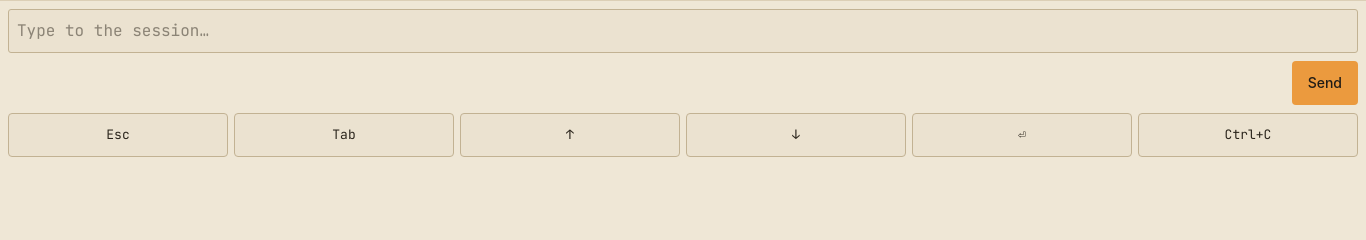
Scenario: TerminalKeys — the offline queue (WP-13) › holds a message typed while offline, shows it, and sends it on reconnect when nothing waits
This screenshot has width=1366, height=240.
Type "run the tests" into the text box labelled "Type to the session".
click(683, 31); type("run the tests")  # box [8, 9, 1358, 53]
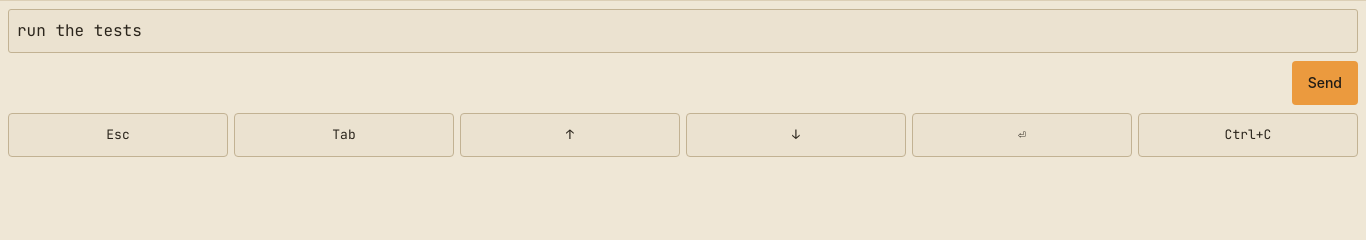
Click the button "Send".
click(1325, 83)  # box [1292, 61, 1358, 105]
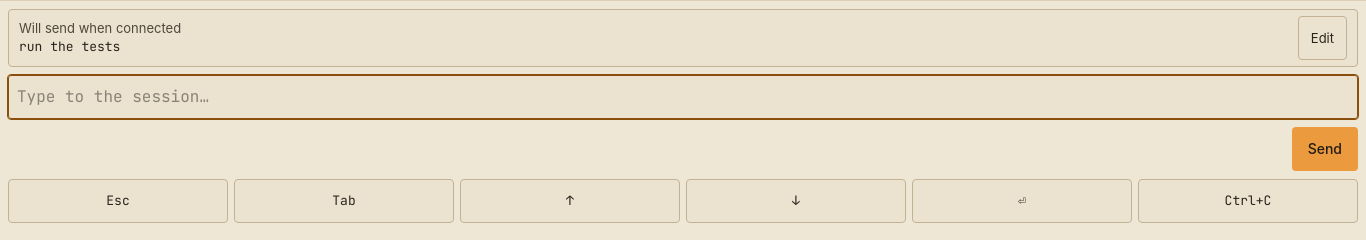
Result: the text "Will send when connected" is shown at [19, 20, 181, 36]
Result: the text "run the tests" is shown at [19, 38, 120, 55]
